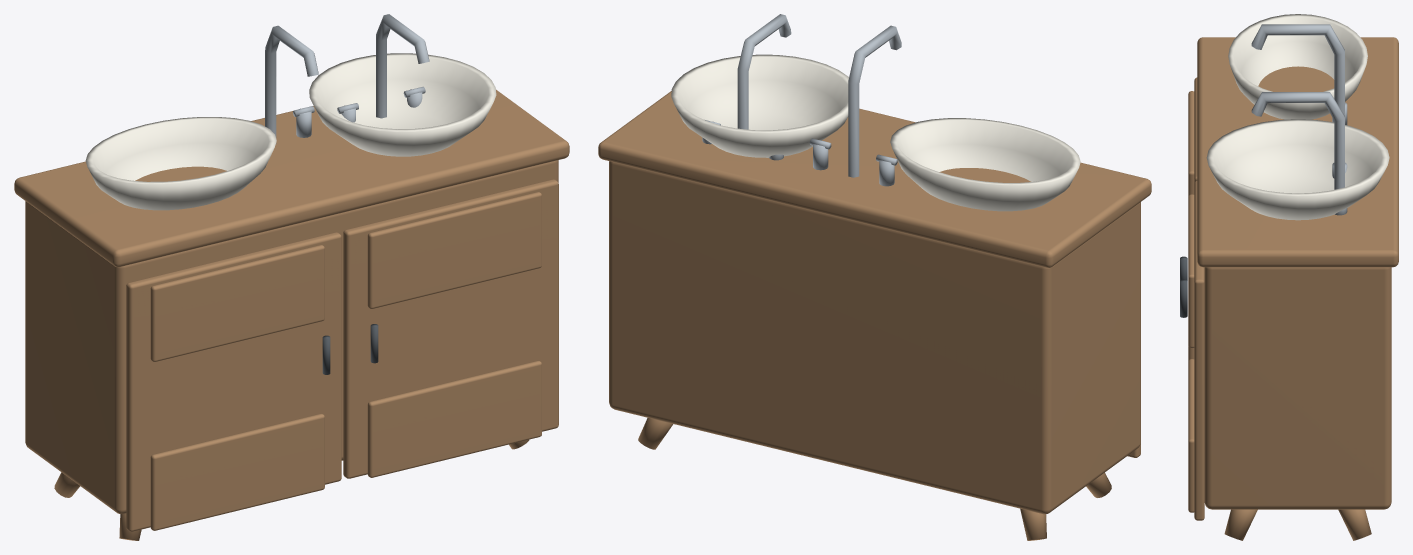
Rendered from atelier-double-vanity.glb.
3 views of the same model, side by side, from view 1: azimuth 30°, elevation 25°; view 2: azimuth 150°, elevation 25°; view 3: azimuth 270°, elevation 25° (orthographic). The views are drawn at different scales.
Visible parts, largest first — view 1: legs.164, ceramic.100, steel.028, metal.131; view 2: legs.164, ceramic.100, steel.028; view 3: legs.164, ceramic.100, steel.028, metal.131.
Boxes of the visible parts, x1=… form: legs.164: x1=14, y1=89, x2=569, y2=540; ceramic.100: x1=85, y1=53, x2=496, y2=210; steel.028: x1=265, y1=14, x2=429, y2=143; metal.131: x1=322, y1=324, x2=378, y2=374; legs.164: x1=598, y1=91, x2=1151, y2=540; ceramic.100: x1=671, y1=54, x2=1080, y2=211; steel.028: x1=702, y1=14, x2=901, y2=186; legs.164: x1=1188, y1=37, x2=1398, y2=540; ceramic.100: x1=1206, y1=14, x2=1389, y2=220; steel.028: x1=1251, y1=24, x2=1347, y2=215; metal.131: x1=1180, y1=256, x2=1187, y2=317.
Size of the model in its own units: 1.24 by 1.12 by 0.5265.
